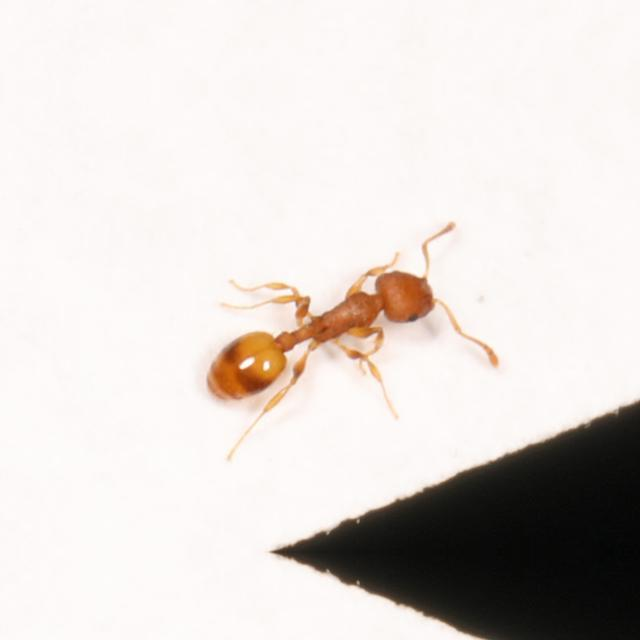Temnothorax: (168, 220, 486, 422)
